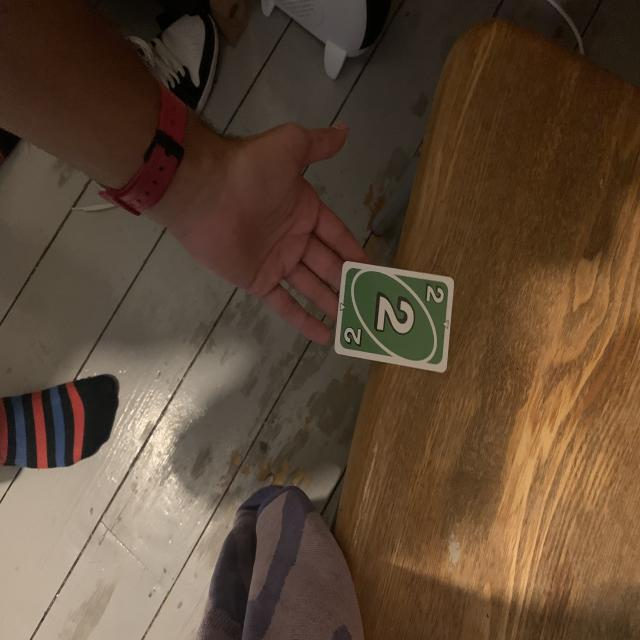lgreen-2: (340, 325, 367, 352)
